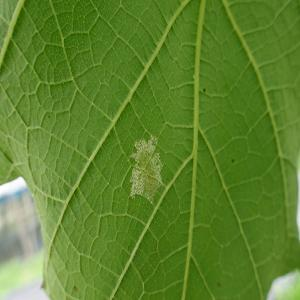Folha: (0, 0, 300, 299)
Fungo: (129, 134, 165, 204)
